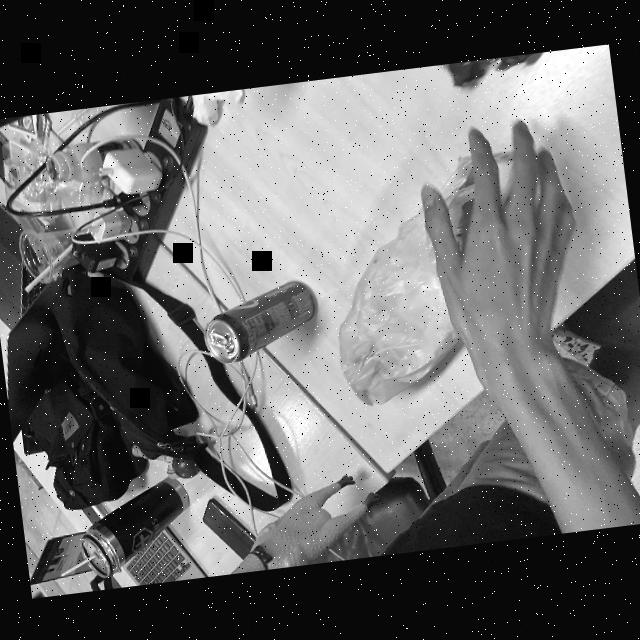can: (196, 273, 324, 365)
plastic_bag: (314, 144, 556, 409)
plastic_bottle: (42, 131, 148, 189)
plastic_box: (0, 134, 65, 226)
plastic_cup: (15, 220, 101, 290)
scrap_paper: (185, 88, 251, 124)
snack_bag: (435, 52, 539, 92)
straw: (18, 237, 82, 290)
